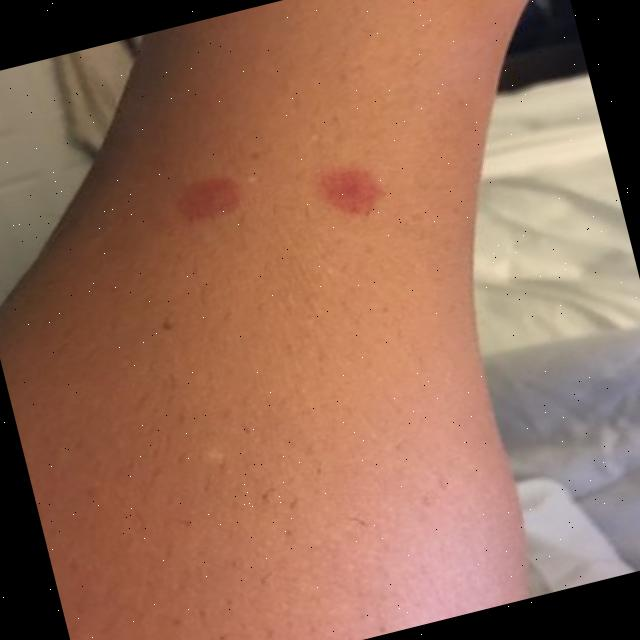kene: (307, 153, 393, 229), (166, 165, 248, 232)
